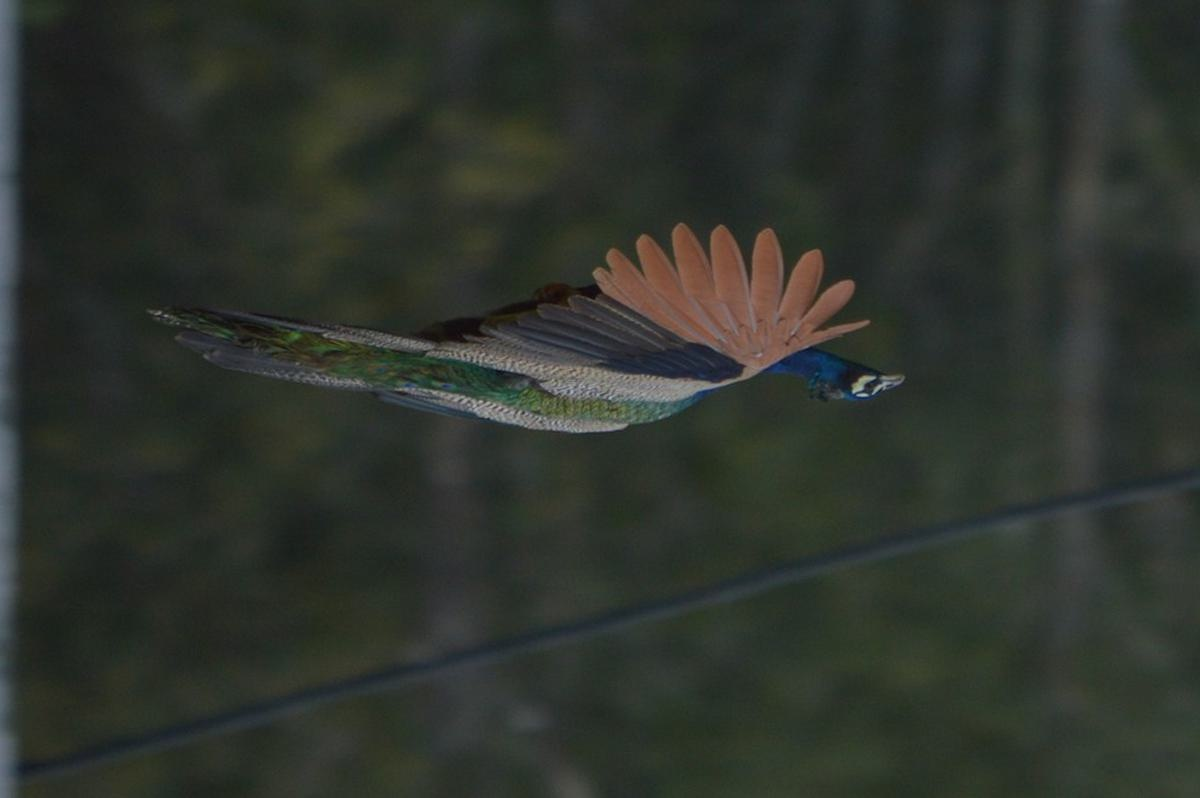peacock: (185, 220, 985, 461)
